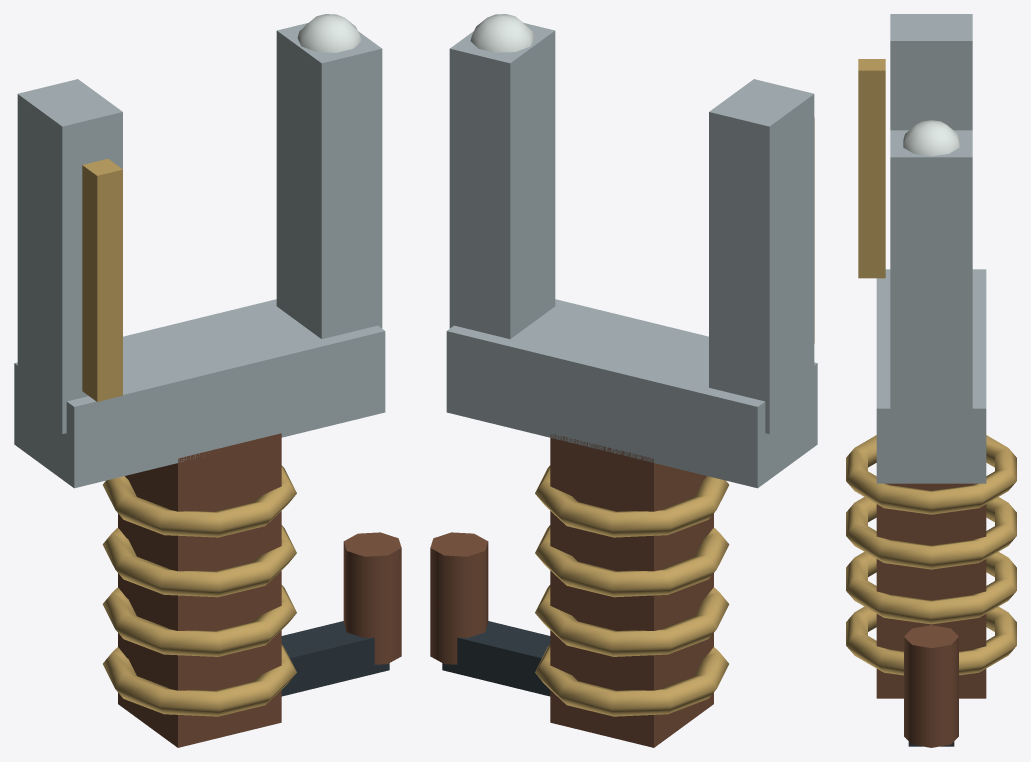
Rendered from fixed-coilKey.glb.
The picture shows the model from 3 angles, left to right: view 1: azimuth 30°, elevation 25°; view 2: azimuth 150°, elevation 25°; view 3: azimuth 270°, elevation 25°; orthographic projection. The views are drawn at different scales.
Visible parts, largest first — view 1: piece_whole; view 2: piece_whole; view 3: piece_whole.
Part boxes in pixels (x1,y1,x2,y2): piece_whole: [14, 14, 401, 747]; piece_whole: [430, 14, 817, 747]; piece_whole: [846, 14, 1016, 747].
Size of the model in its own units: 0.415 by 0.735 by 0.1864.
